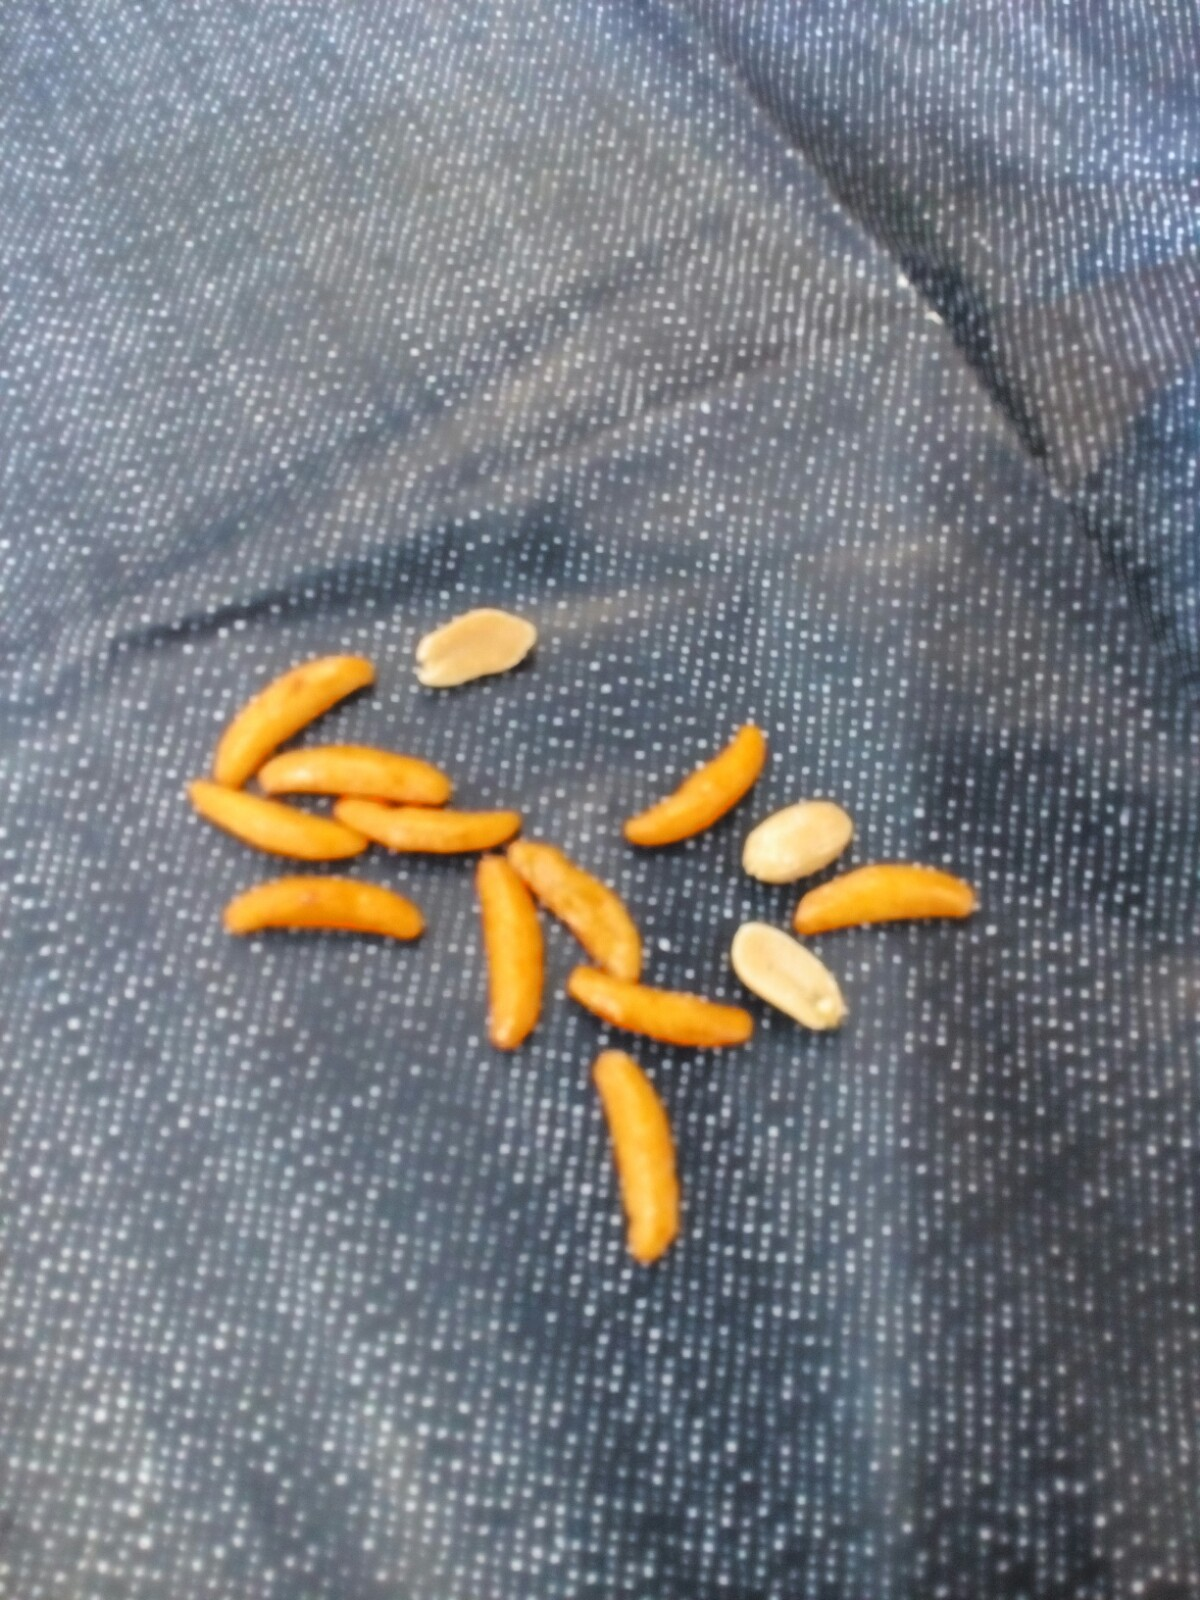peanut: (724, 918, 855, 1054), (401, 598, 539, 704), (737, 791, 865, 887)
